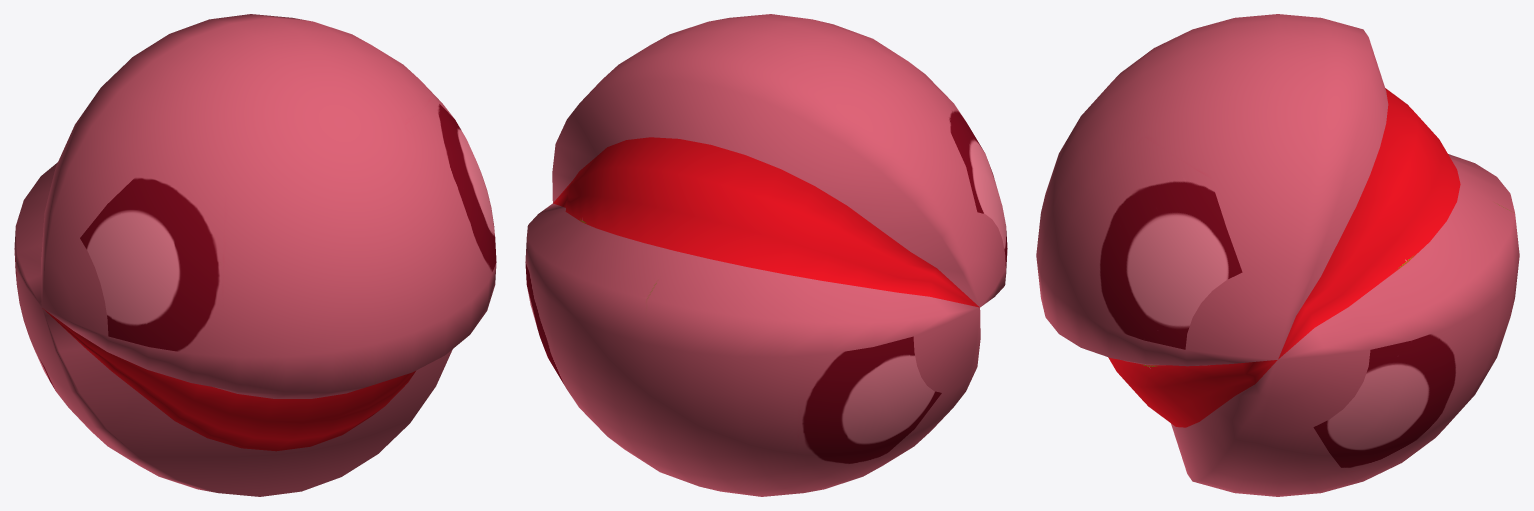
Rendered from Monster5.FBX.
3 renders of one model, left to right at view 1: azimuth 30°, elevation 25°; view 2: azimuth 150°, elevation 25°; view 3: azimuth 270°, elevation 25°, orthographic.
Visible parts, largest first — view 1: Sphere001; view 2: Sphere001; view 3: Sphere001.
Part boxes in pixels (left/top/right/bottom): Sphere001: left=14, top=14, right=496, bottom=496; Sphere001: left=525, top=14, right=1007, bottom=496; Sphere001: left=1036, top=14, right=1519, bottom=496.
Size of the model in its own units: 106 by 104 by 104.
1 material, 1 textured.
